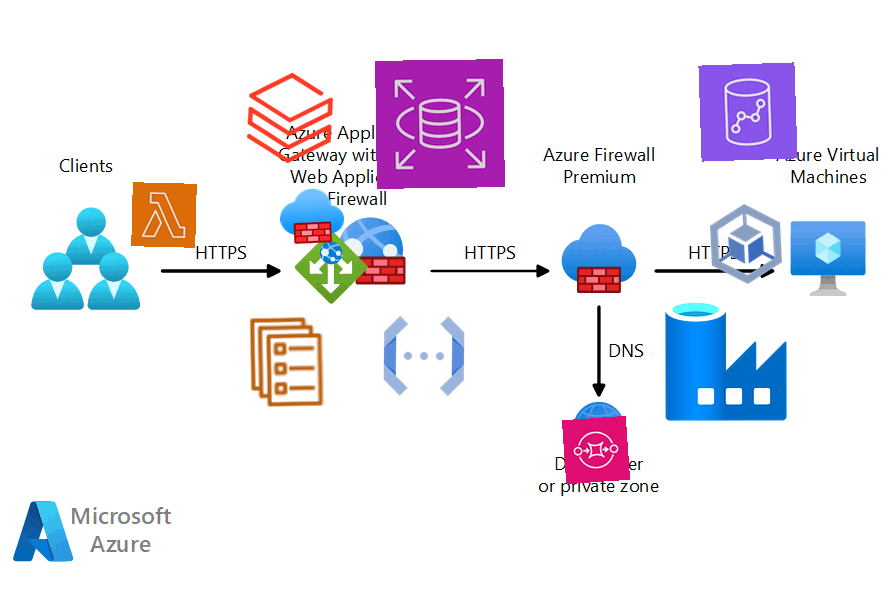aws_amazon_rds: (375, 59, 505, 189)
aws_amazon_redshift: (698, 62, 798, 162)
aws_amazon_simple_queue_service: (561, 415, 631, 485)
aws_elastic_container_service_service: (238, 313, 336, 411)
aws_lambda: (131, 182, 197, 248)
azure_data_factories: (661, 295, 791, 425)
azure_databricks: (239, 67, 341, 169)
azure_firewalls: (278, 182, 346, 250)
gcp_cloud_functions: (375, 307, 473, 405)
gcp_google_kubernetes_engine: (695, 193, 797, 295)
